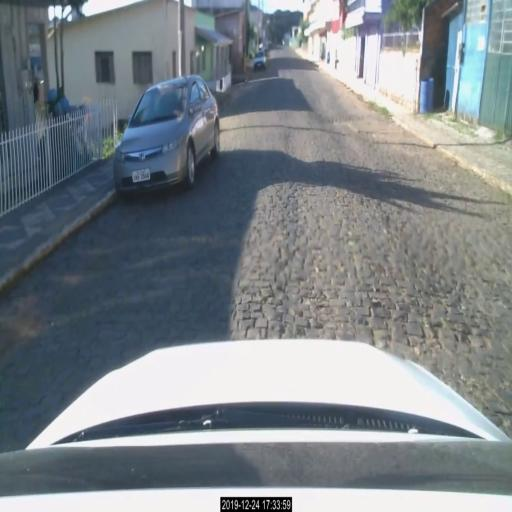Pothole: (0, 265, 71, 347)
